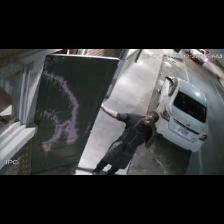person: (93, 105, 158, 174)
